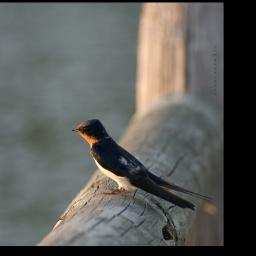Swallow: (67, 115, 215, 212)
